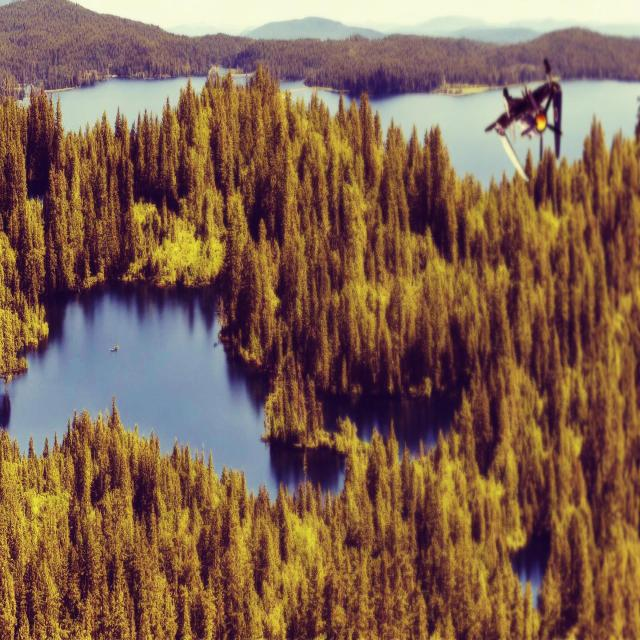airplane: (484, 57, 563, 182)
